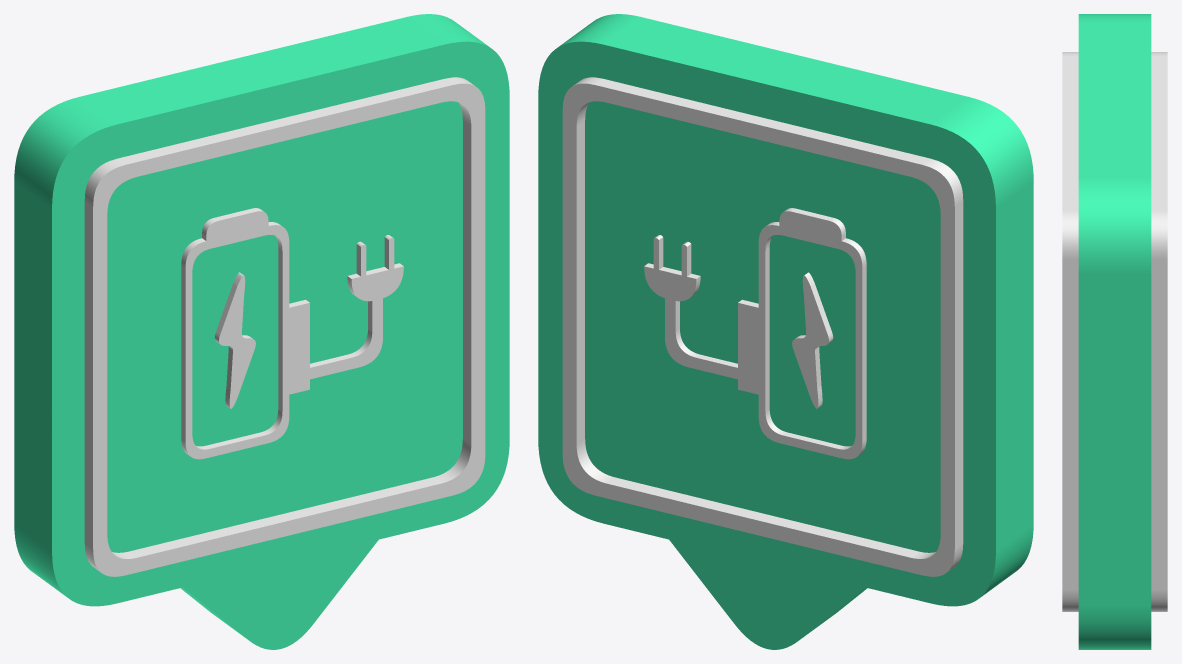
Rendered from charging_3d.glb.
The picture shows the model from 3 angles, left to right: view 1: azimuth 30°, elevation 25°; view 2: azimuth 150°, elevation 25°; view 3: azimuth 270°, elevation 25°; orthographic projection. The views are drawn at different scales.
Size of the model in its own units: 0.2206 by 0.26 by 0.0456.
